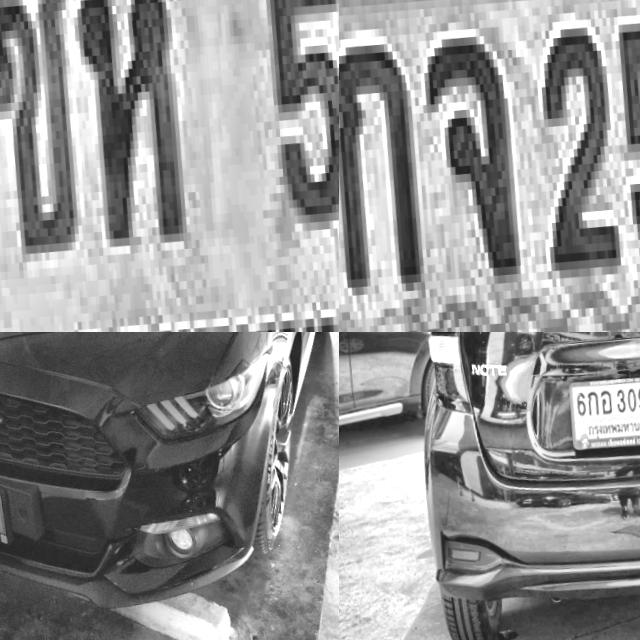license-plate: (0, 0, 339, 332), (339, 0, 640, 332), (562, 359, 640, 457), (0, 454, 19, 551)
